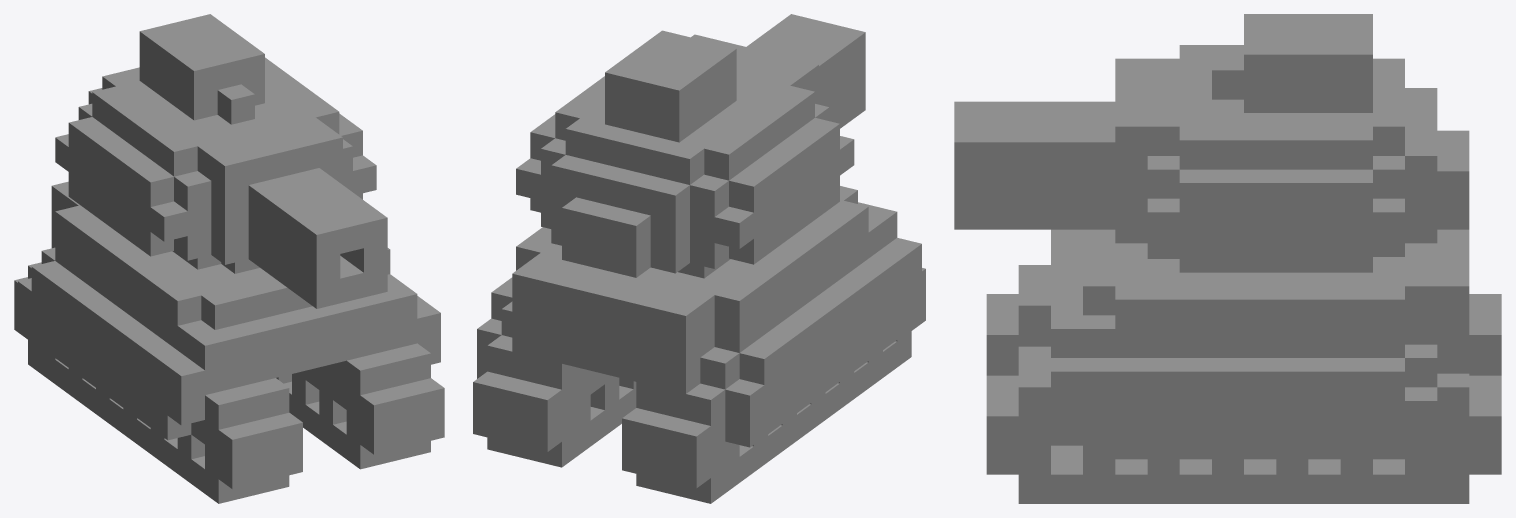
The model's file is tank.fbx.
3 views of the same model, side by side, from view 1: azimuth 30°, elevation 25°; view 2: azimuth 150°, elevation 25°; view 3: azimuth 270°, elevation 25° (orthographic). The views are drawn at different scales.
Visible parts, largest first — view 1: pCube3376, pCube2634, pCube2853, pCube2950, pCube3042, pCube3052, pCube3410, pCube2505, pCube2527, pCube2528, pCube2562, pCube2896 (+106 smaller); view 2: pCube3377, pCube3587, pCube2710, pCube2811, pCube2838, pCube3392, pCube3414, pCube3520, pCube2640, pCube2675, pCube2931, pCube2952 (+113 smaller); view 3: pCube2845, pCube2898, pCube2944, pCube2942, pCube2945, pCube3036, pCube3093, pCube2521, pCube2677, pCube2704, pCube2711, pCube2823 (+139 smaller).
Part boxes in pixels (x1,y1,x2,y2): pCube3376: [167, 360, 204, 400]; pCube2634: [218, 424, 255, 464]; pCube2853: [174, 171, 211, 211]; pCube2950: [160, 136, 197, 176]; pCube3042: [217, 84, 254, 124]; pCube3052: [180, 55, 217, 95]; pCube3410: [150, 201, 187, 241]; pCube2505: [191, 330, 228, 370]; pCube2527: [201, 289, 238, 329]; pCube2528: [164, 285, 201, 325]; pCube2562: [205, 389, 242, 429]; pCube2896: [303, 219, 340, 259]; pCube3377: [739, 342, 778, 384]; pCube3587: [700, 347, 739, 389]; pCube2710: [661, 299, 700, 341]; pCube2811: [611, 209, 650, 251]; pCube2838: [650, 179, 689, 221]; pCube3392: [725, 379, 764, 421]; pCube3414: [714, 206, 753, 248]; pCube3520: [522, 383, 561, 425]; pCube2640: [686, 383, 725, 425]; pCube2675: [714, 284, 753, 326]; pCube2931: [654, 74, 693, 116]; pCube2952: [704, 138, 743, 180]; pCube2845: [1308, 169, 1340, 212]; pCube2898: [954, 128, 986, 171]; pCube2944: [1308, 126, 1340, 169]; pCube2942: [1179, 126, 1211, 169]; pCube2945: [1340, 126, 1372, 169]; pCube3036: [1244, 126, 1276, 169]; pCube3093: [1276, 126, 1308, 169]; pCube2521: [1083, 272, 1115, 315]; pCube2677: [1405, 344, 1437, 387]; pCube2704: [1437, 272, 1469, 315]; pCube2711: [1405, 272, 1437, 315]; pCube2823: [1147, 198, 1179, 241].
Bounding box in the file's own units: 11 × 14 × 17.
